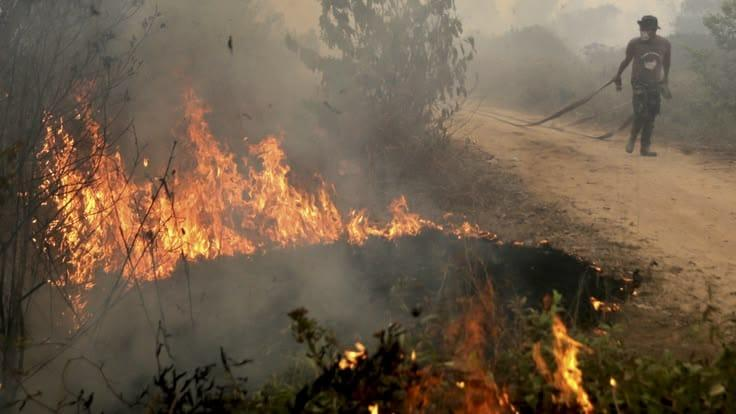Deteksi-Objek-Citra-Berasap: (99, 0, 625, 361)
Manusia: (612, 15, 672, 157)
Titik Api: (33, 82, 432, 293), (404, 272, 511, 413), (532, 311, 591, 413)
Vegetasi: (0, 0, 154, 412), (282, 291, 736, 414), (310, 0, 478, 185)
